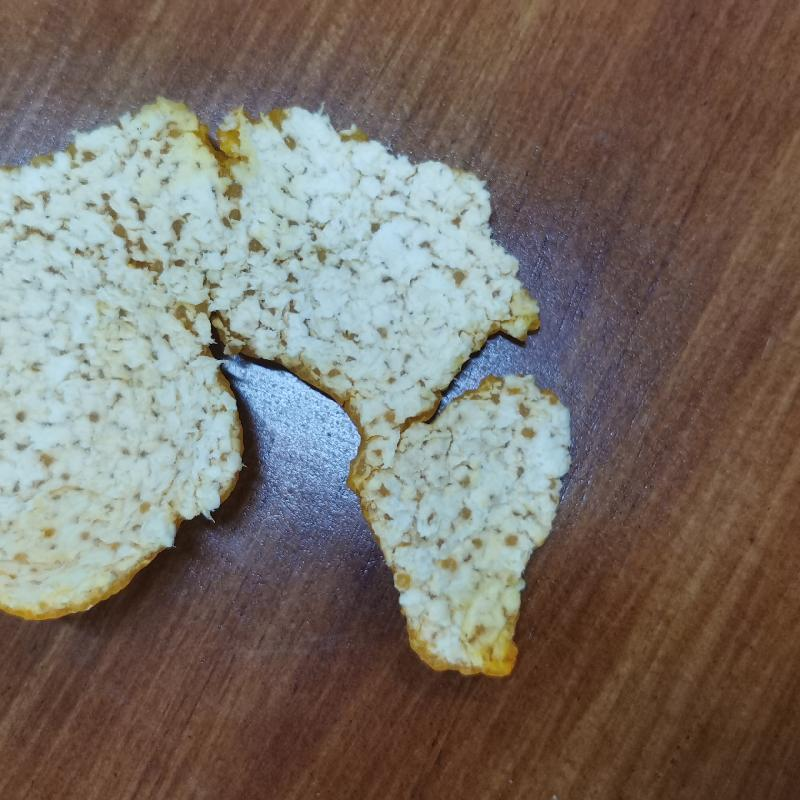orange: (2, 99, 577, 680)
